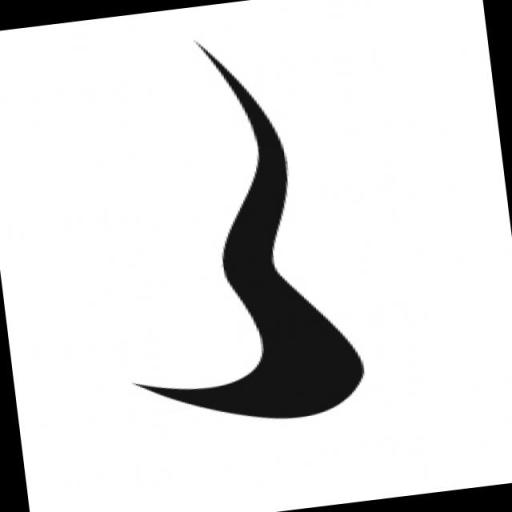Nike: (100, 20, 373, 438)
